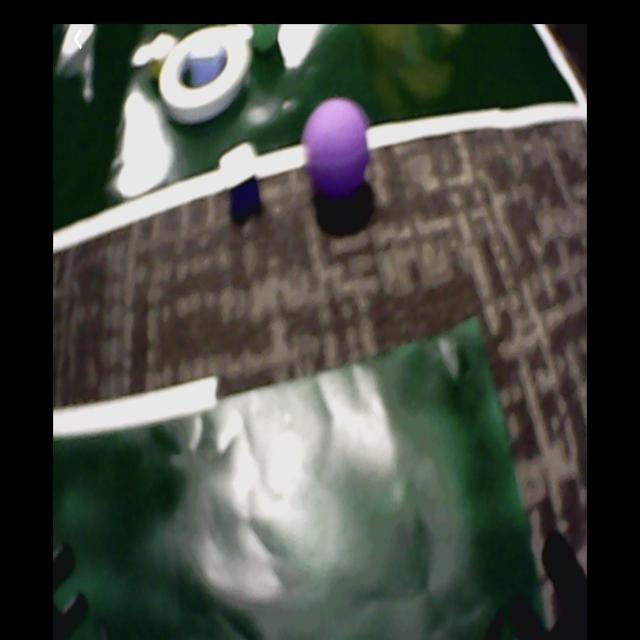ball: (305, 99, 371, 202)
